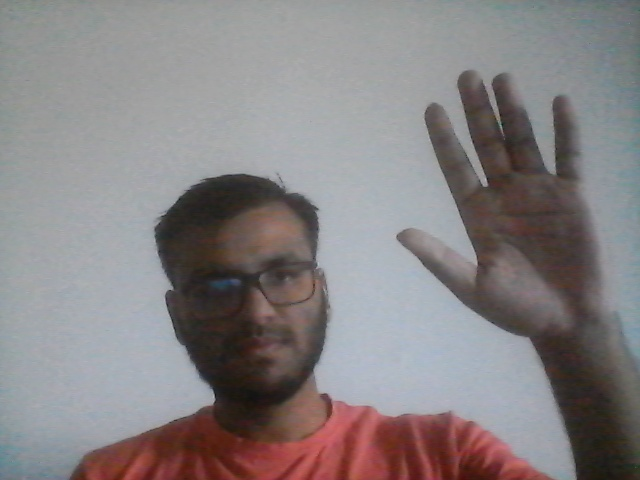Hello: (385, 52, 633, 343)
